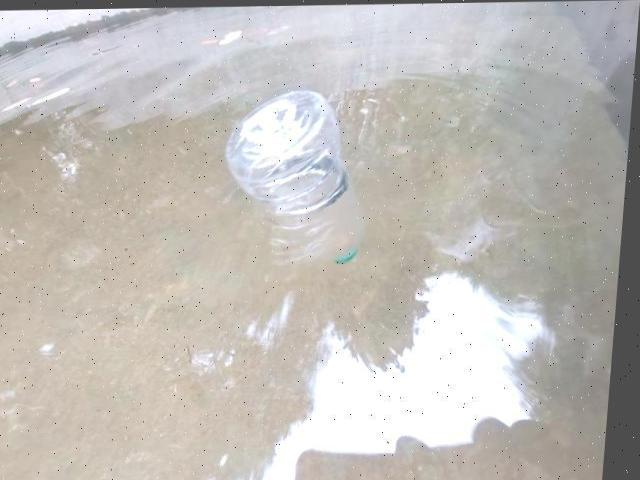Bottle: (215, 76, 372, 273)
